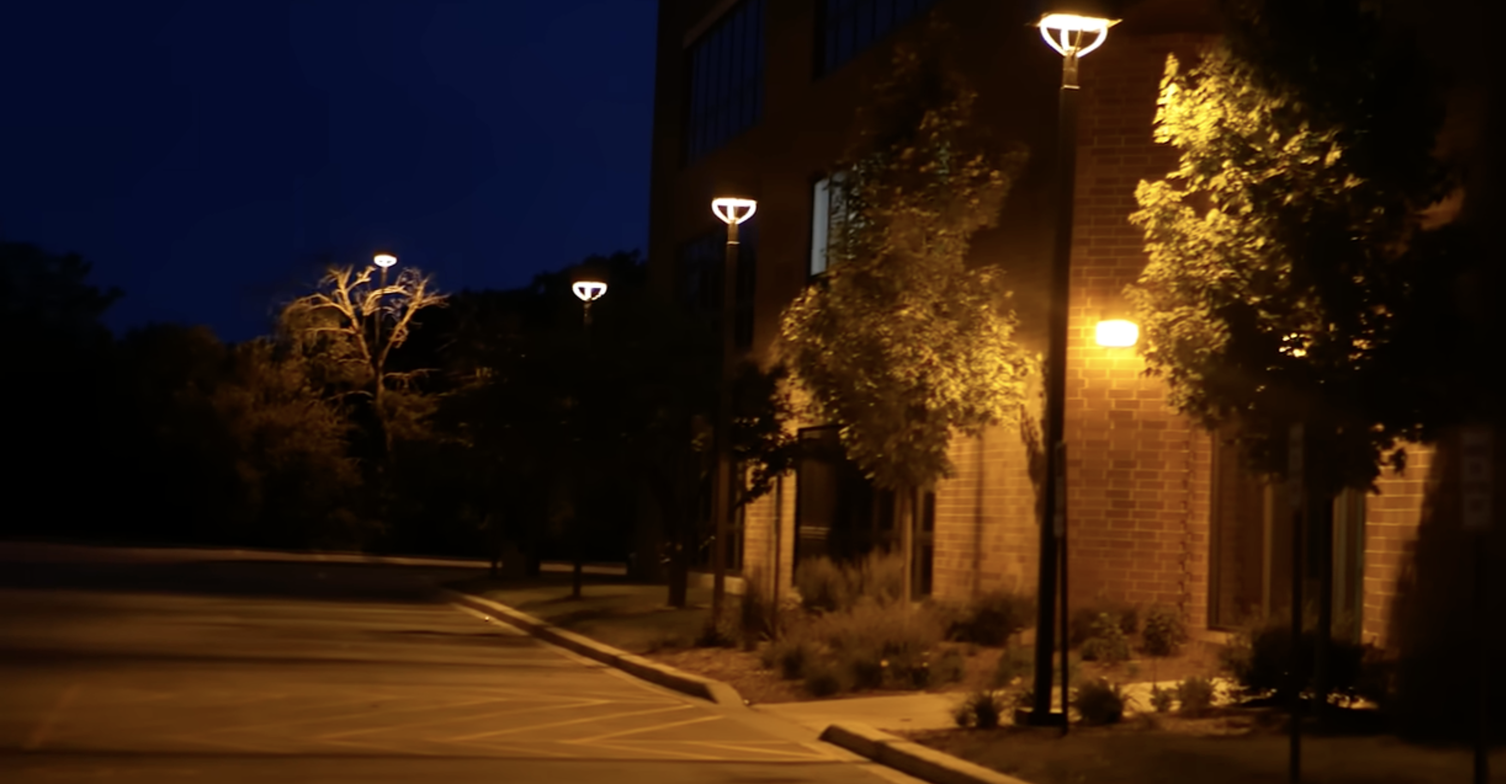HPS: (1076, 300, 1158, 365)
